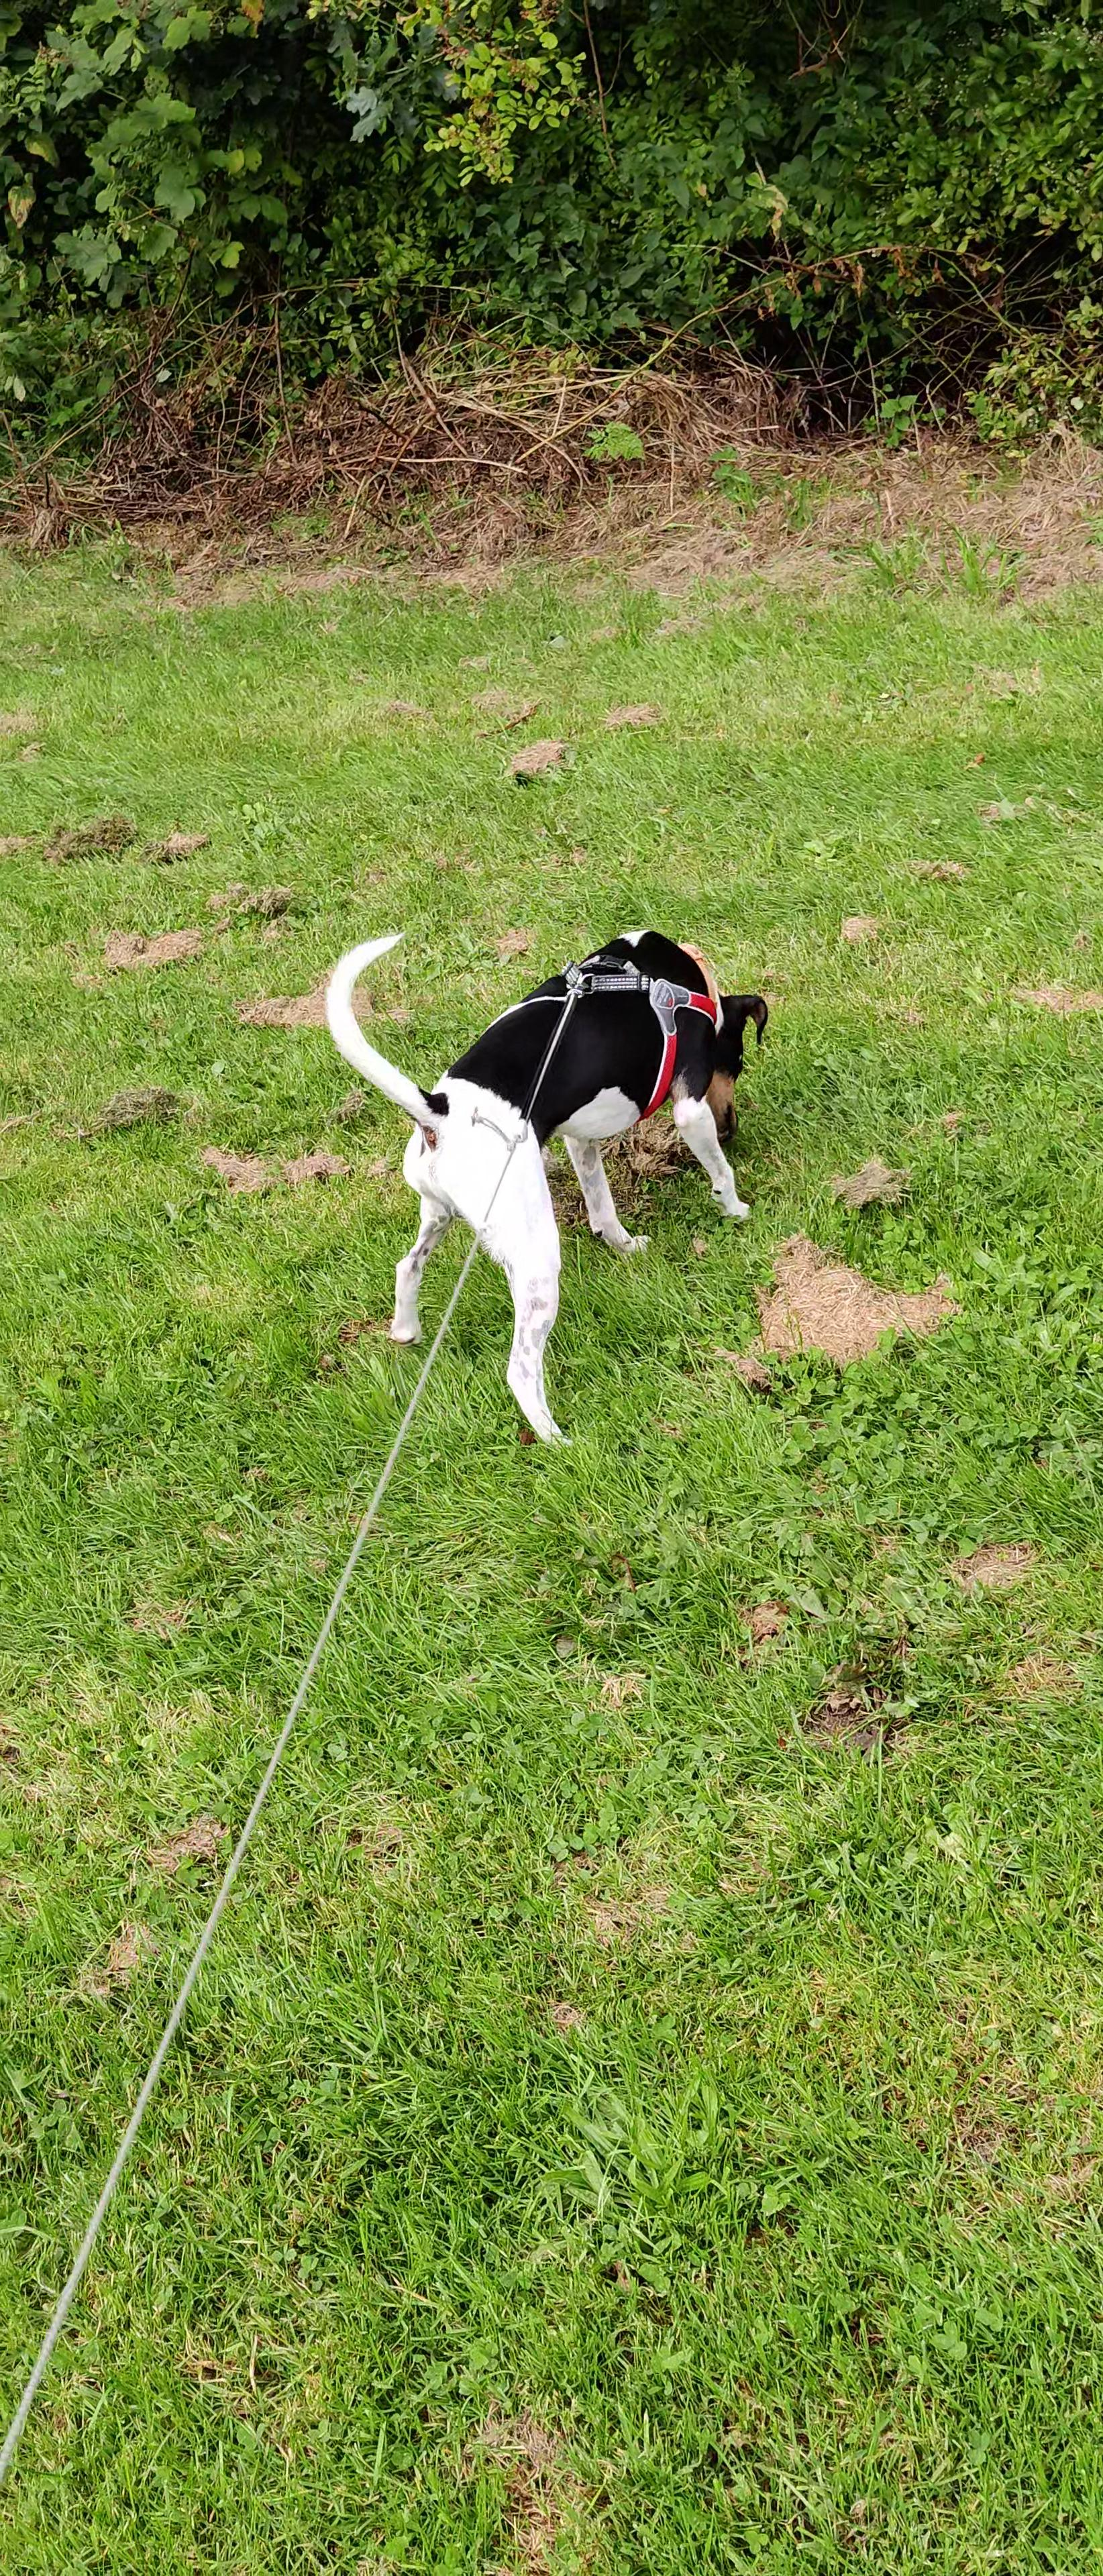Dog: (311, 899, 787, 1459)
